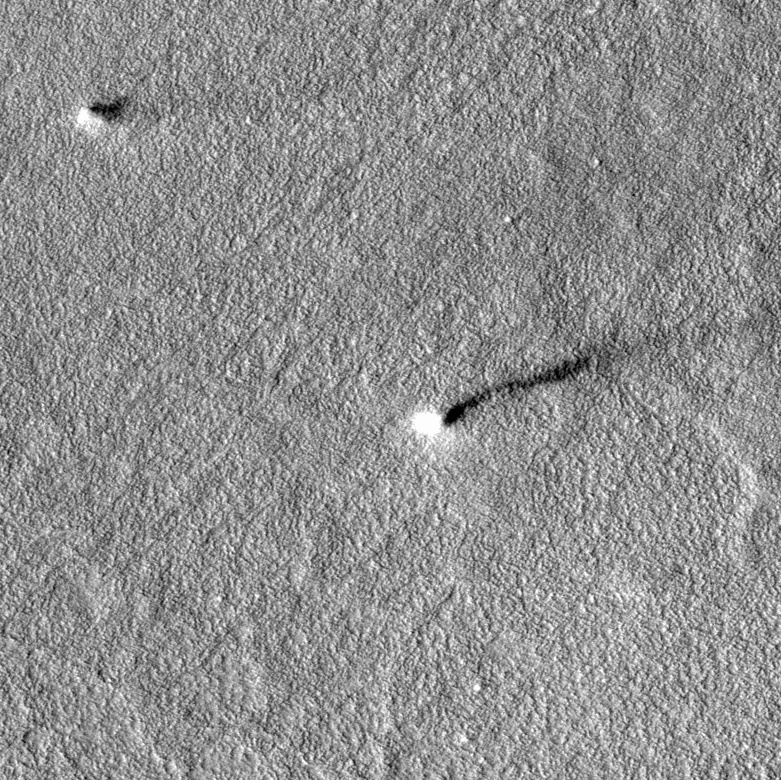dust_devil: (407, 350, 601, 439), (74, 92, 137, 133)
